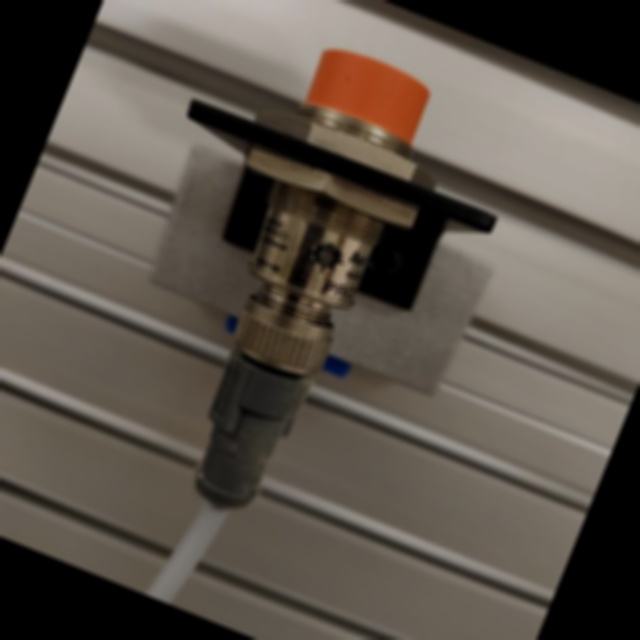inductive sensor: (47, 0, 567, 582)
